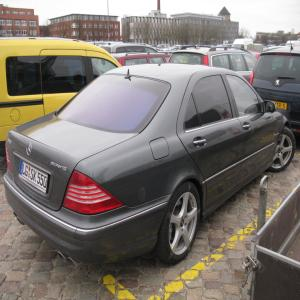Vehicle-registration-plate: (20, 161, 50, 195), (265, 100, 288, 111)
